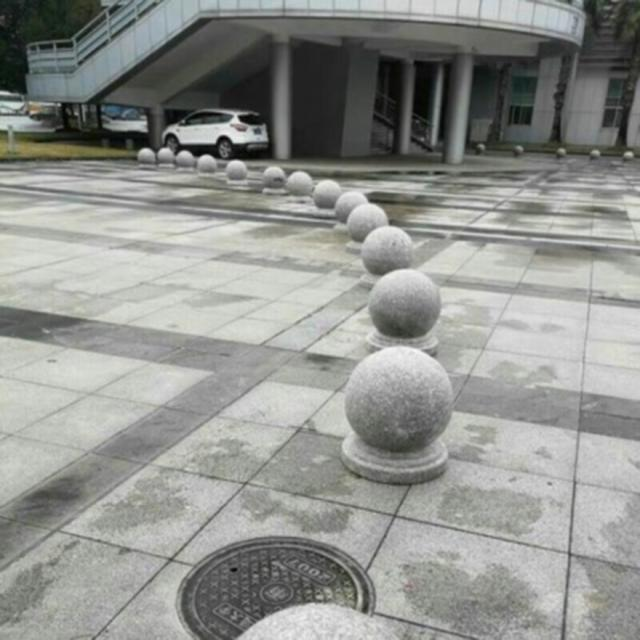car: (158, 106, 268, 158)
spherical_roadblock: (340, 344, 458, 483), (358, 266, 445, 356), (358, 223, 413, 284), (342, 201, 389, 252), (333, 188, 366, 230), (309, 173, 341, 216), (283, 167, 312, 203), (220, 154, 250, 185), (259, 164, 285, 193), (172, 146, 194, 172), (195, 151, 216, 177), (134, 145, 156, 167), (155, 145, 173, 169)
